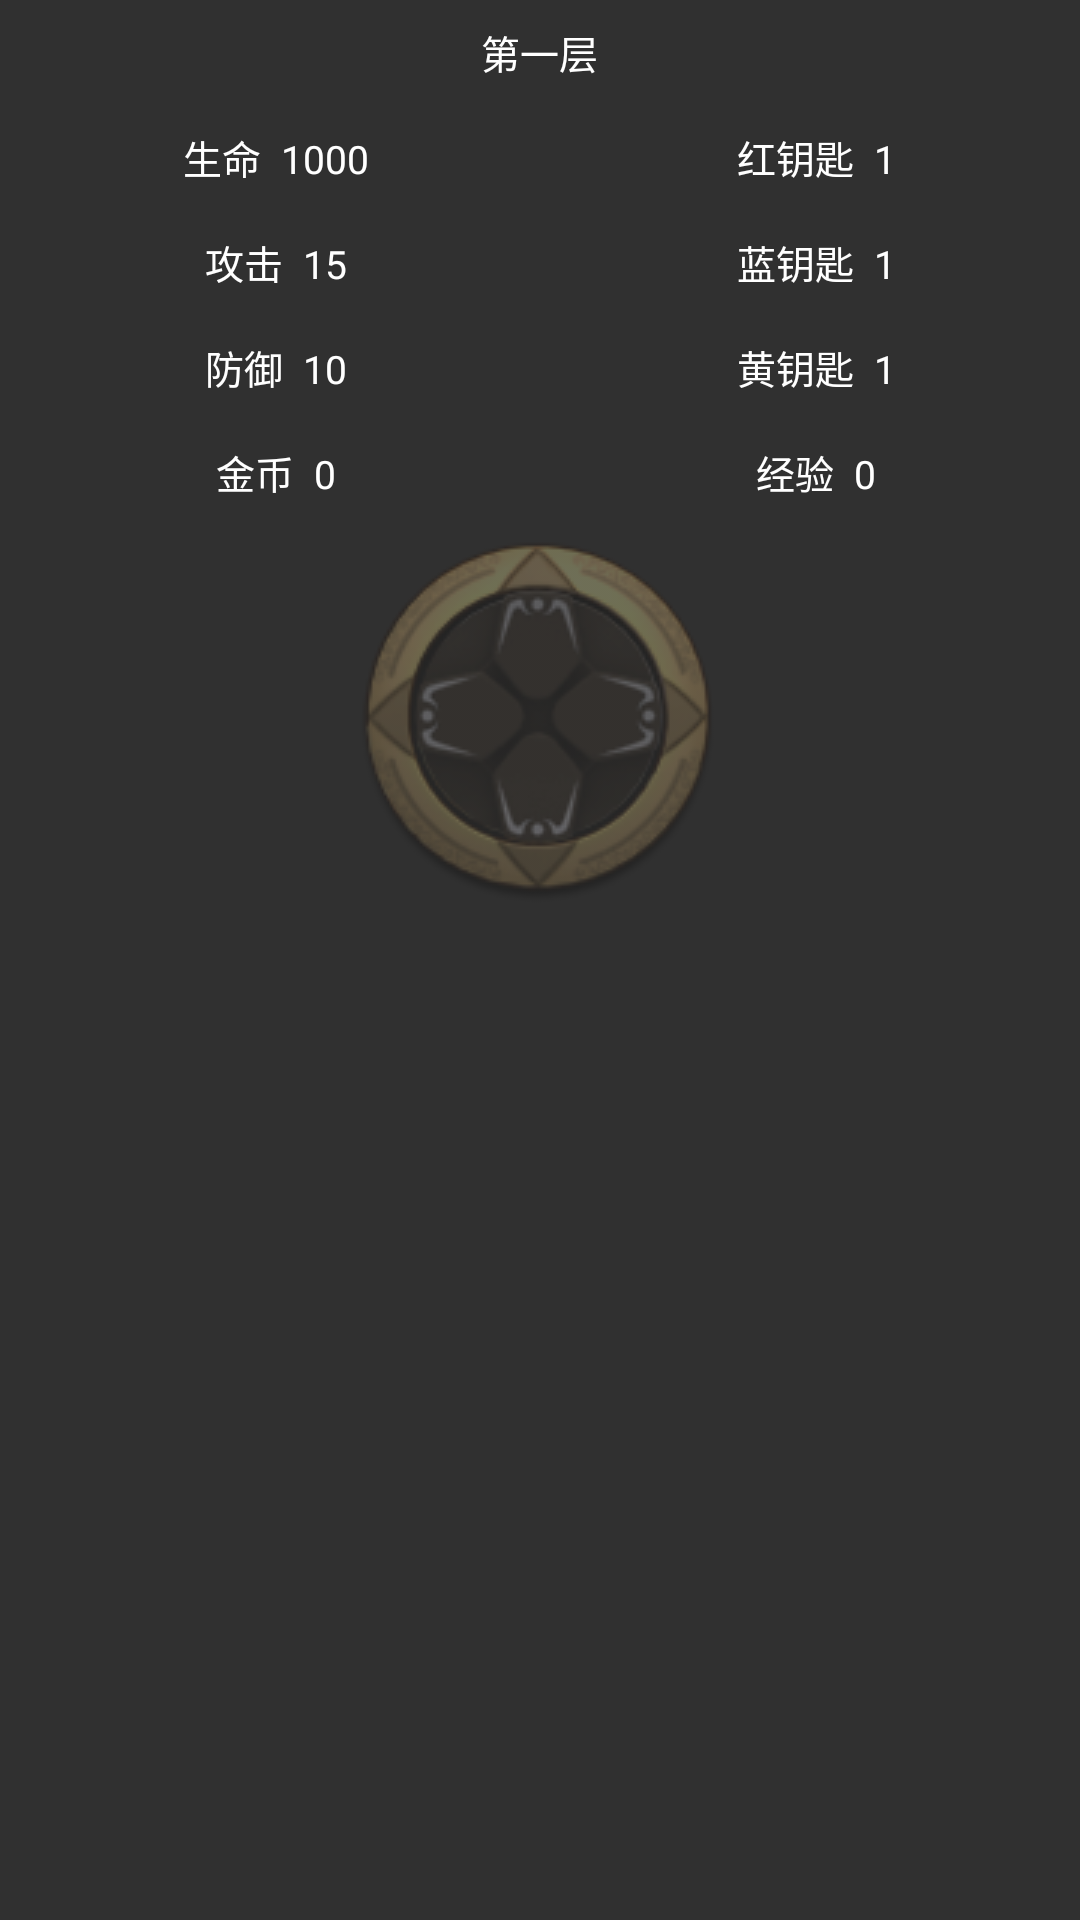

Named icons in this screenshot (1080x1920) and their bounding boxes, (x1, y1, x2, y2):
control: (369, 546, 707, 885)
